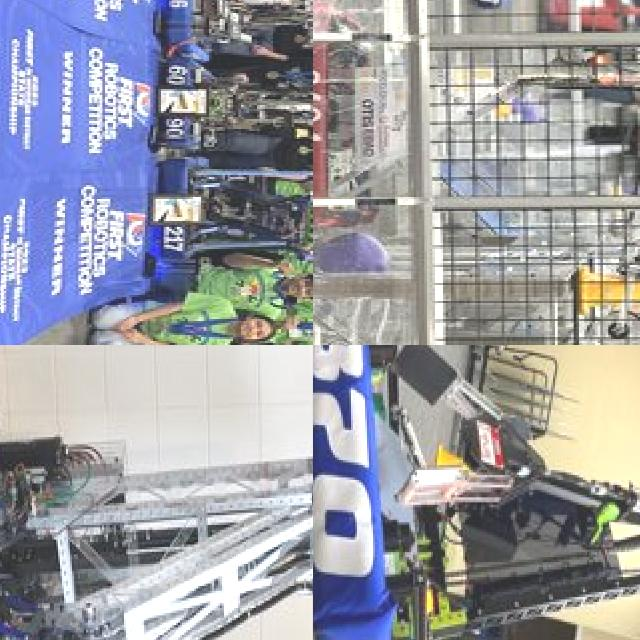FRC-Robots: (313, 345, 640, 640), (0, 345, 313, 640), (313, 22, 640, 272), (106, 150, 313, 308), (126, 52, 313, 139), (136, 0, 313, 41)
